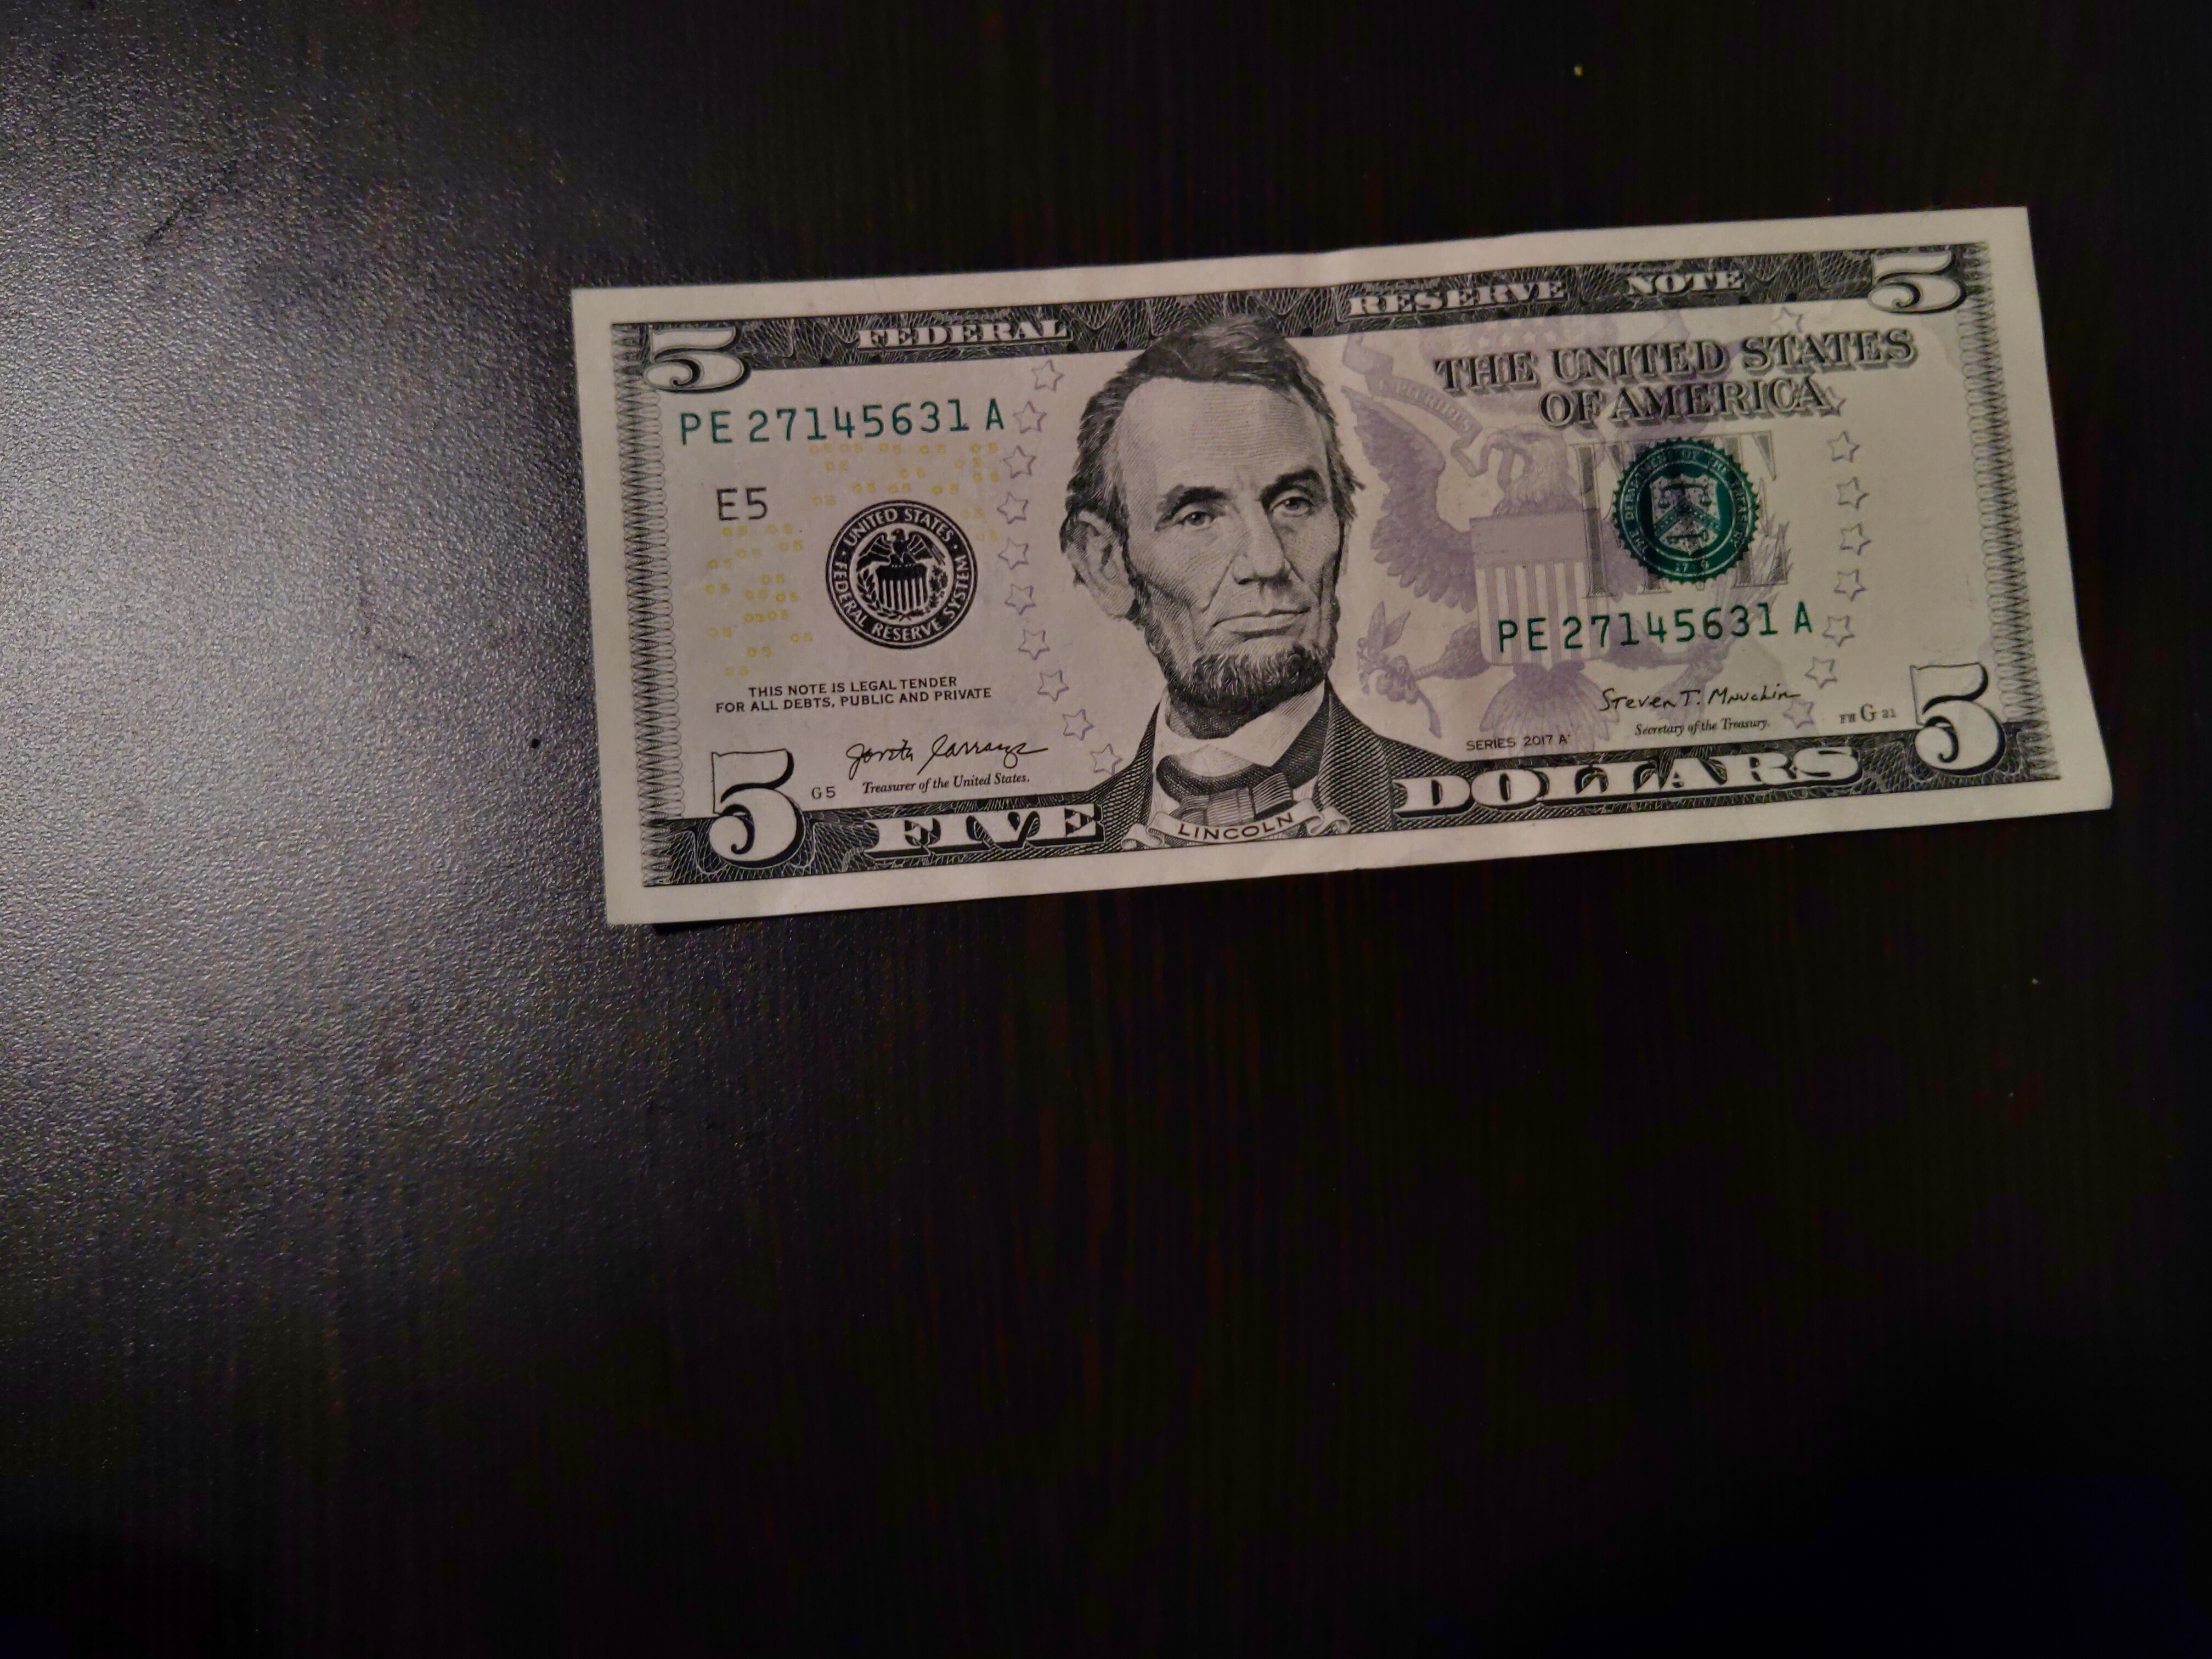FiveBill: (563, 202, 2120, 932)
